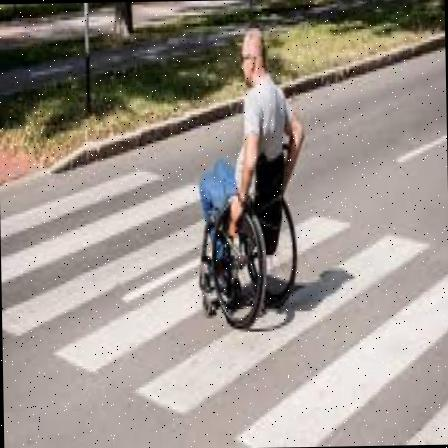wheel: (194, 25, 306, 330)
